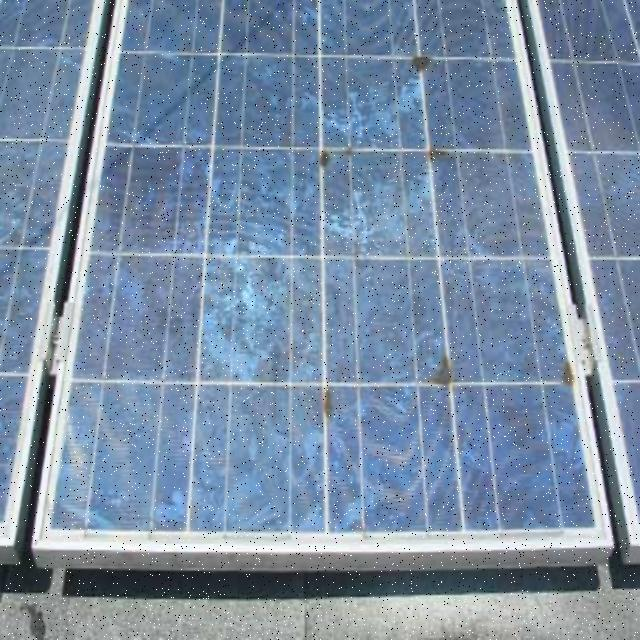electrical damage: (286, 41, 620, 469)
